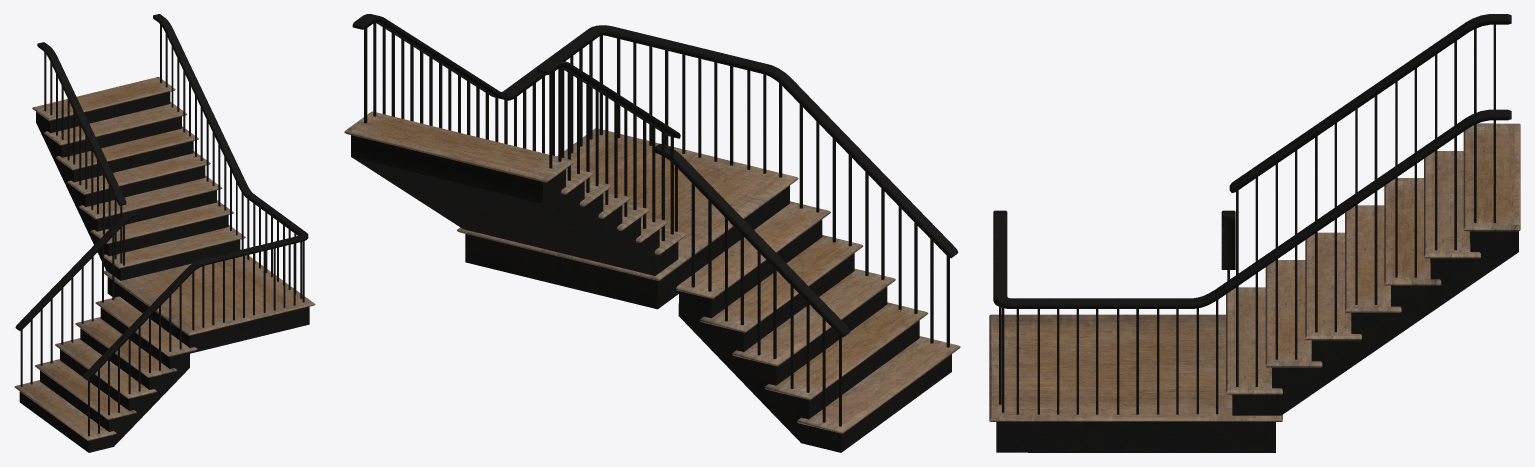
The model's file is SM_Stairs_Dog_Leg_01.glb.
3 views of the same model, side by side, from view 1: azimuth 30°, elevation 25°; view 2: azimuth 150°, elevation 25°; view 3: azimuth 270°, elevation 25° (orthographic). The views are drawn at different scales.
Visible parts, largest first — view 1: SM_Stairs_Dog_Leg_01; view 2: SM_Stairs_Dog_Leg_01; view 3: SM_Stairs_Dog_Leg_01.
Part boxes in pixels (<box>): SM_Stairs_Dog_Leg_01: <box>14,14,315,452</box>; SM_Stairs_Dog_Leg_01: <box>344,14,960,452</box>; SM_Stairs_Dog_Leg_01: <box>989,14,1520,452</box>.
Bounding box in the file's own units: 3.43 × 3.94 × 4.07.
Materials: 2 (2 with a texture image).
